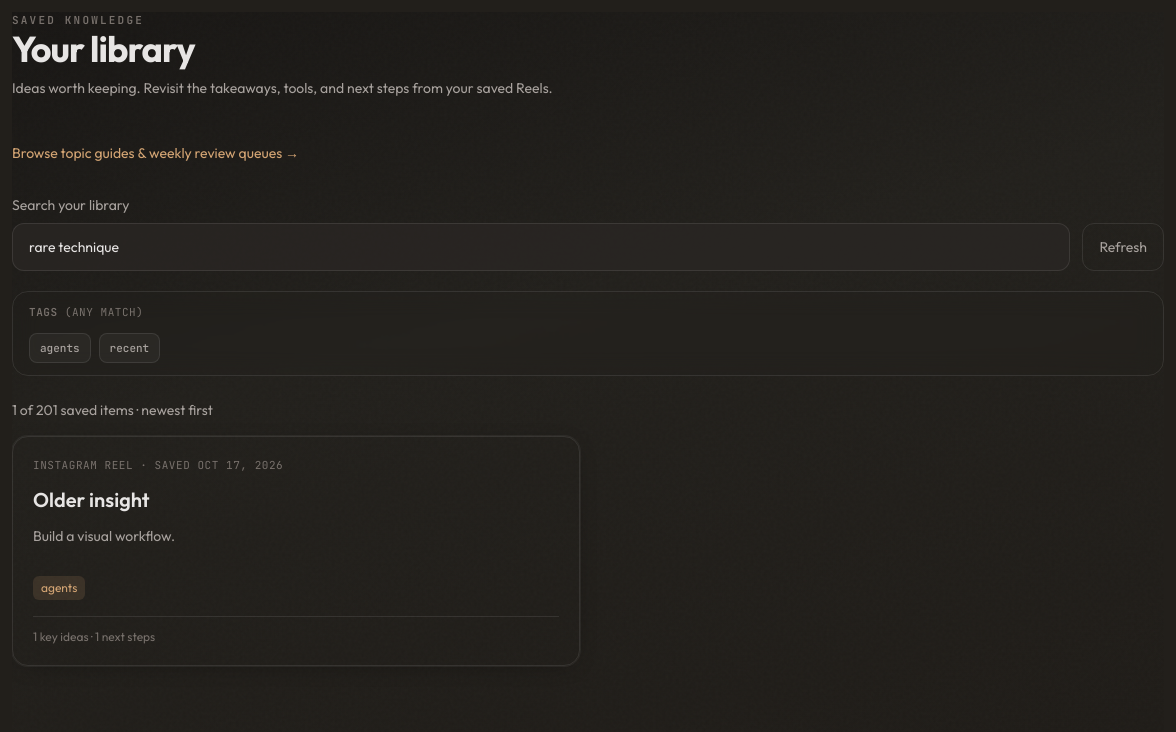
Test: Knowledge library › loads older pages and searches their ideas and tags
Expected: the link "Older insight" is shown, [33, 487, 150, 512]
Expected: the link "Recent 0" is not shown
Step 1. Clear the search field labelled "Search your library" → (541, 247), box [12, 223, 1070, 271]
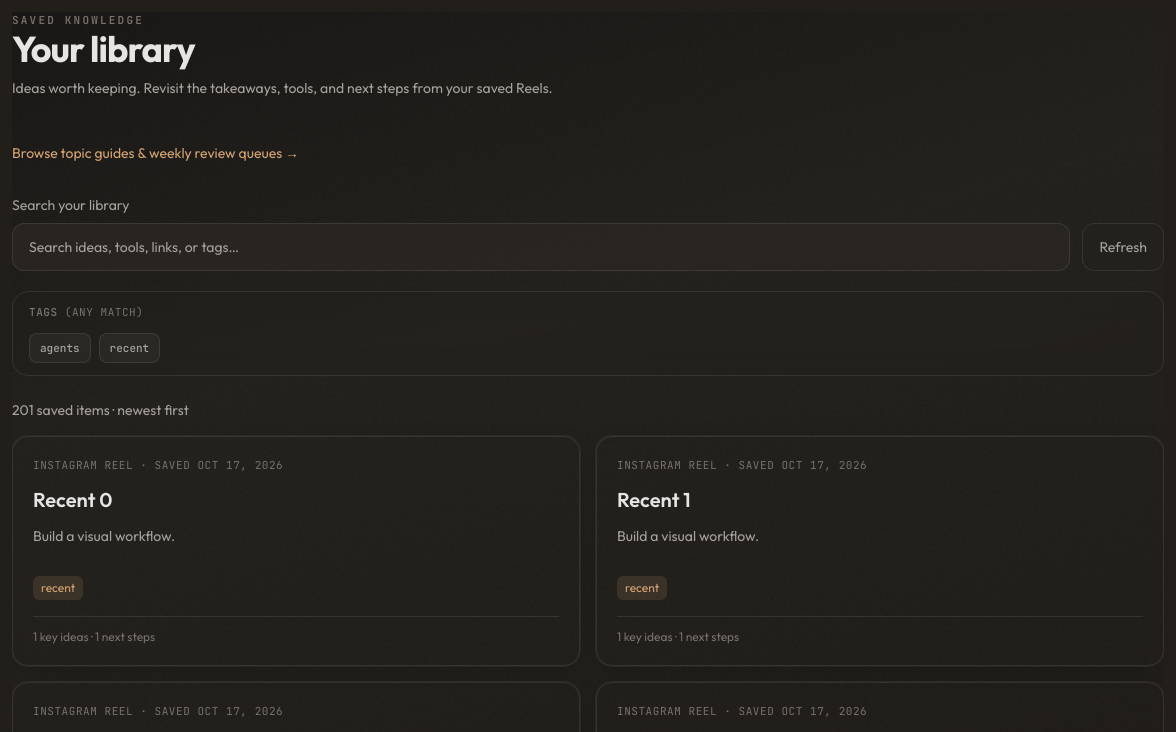
Step 2. Click the button "agents" → (60, 348), box [29, 333, 91, 363]
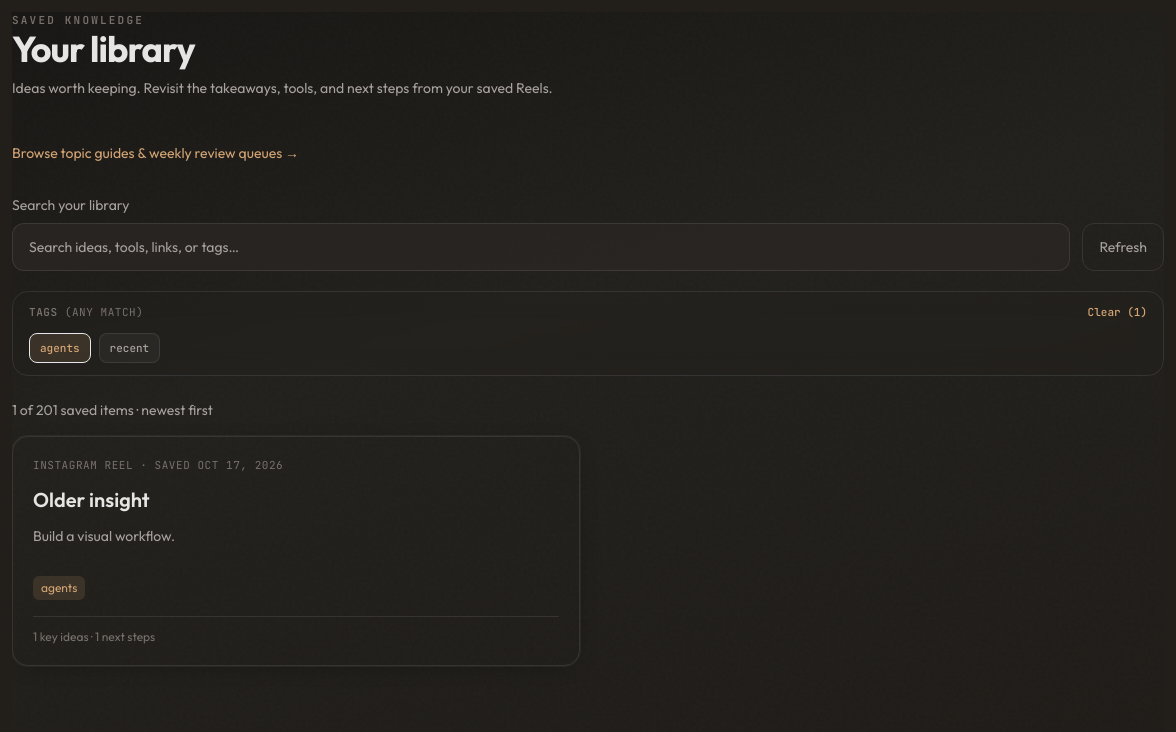
Expected: the link "Recent 0" is gone
